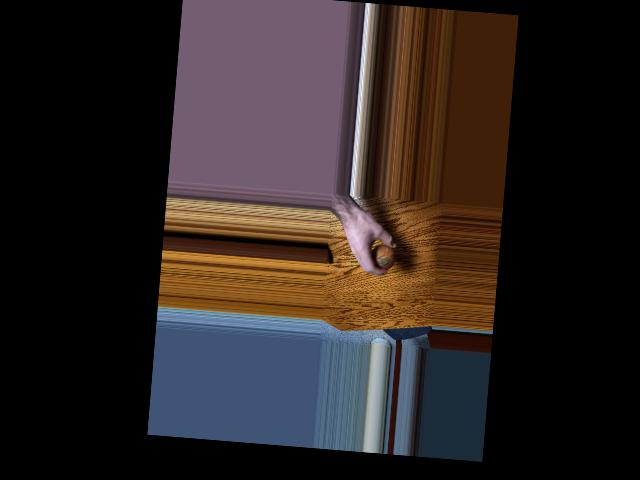onion: (371, 243, 397, 271)
